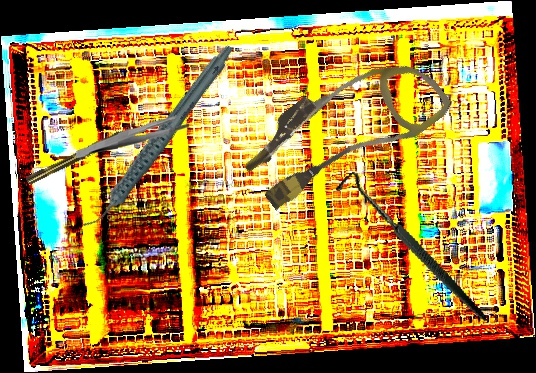Cannula: (231, 28, 456, 231)
Dressing Forceps: (74, 115, 190, 158)
Handpiece: (49, 41, 266, 234), (24, 122, 137, 187)
Hook Surgical: (332, 147, 488, 352)
